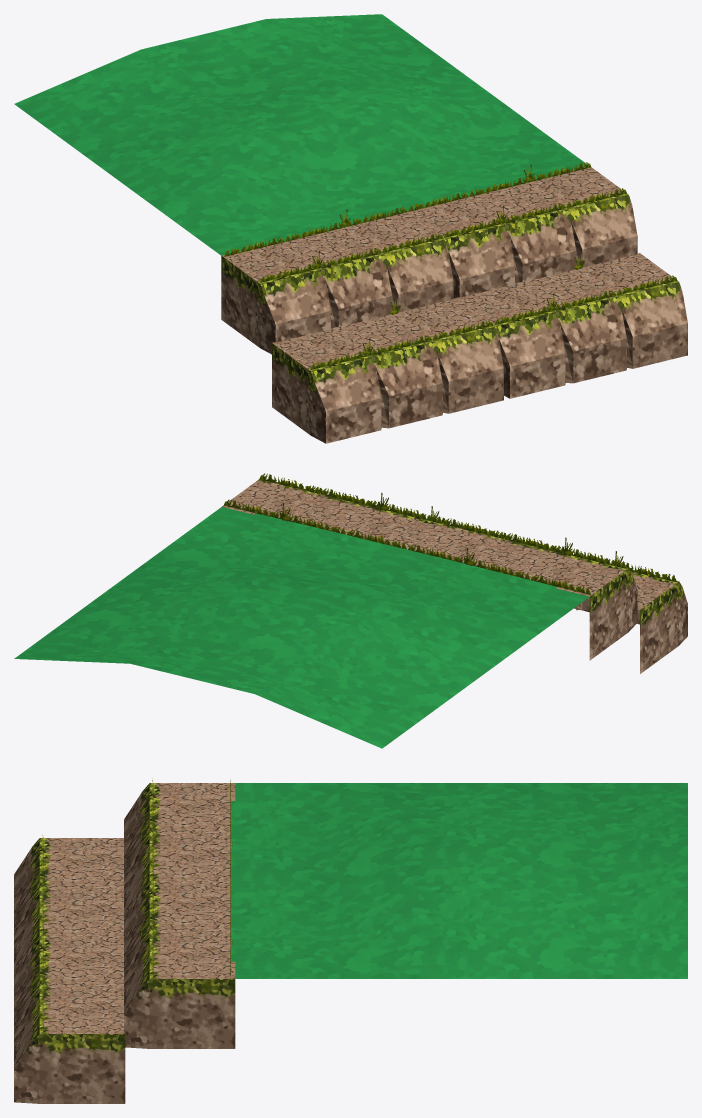
3 renders of one model, top to bottom at view 1: azimuth 30°, elevation 25°; view 2: azimuth 150°, elevation 25°; view 3: azimuth 270°, elevation 25°, orthographic. The views are drawn at different scales.
Parts seen in each view (by area): view 1: Object001, Terreno016, Terreno015, Terreno017, Terreno014; view 2: Object001, Terreno015, Terreno014, Terreno016; view 3: Object001, Terreno017, Terreno014, Terreno016, Terreno015.
Boxes of the visible parts, x1=… form: Object001: x1=14, y1=14, x2=586, y2=255; Terreno016: x1=272, y1=297, x2=503, y2=443; Terreno015: x1=221, y1=207, x2=453, y2=354; Terreno017: x1=456, y1=252, x2=687, y2=398; Terreno014: x1=407, y1=162, x2=637, y2=298; Object001: x1=14, y1=507, x2=589, y2=748; Terreno015: x1=408, y1=518, x2=637, y2=660; Terreno014: x1=221, y1=473, x2=443, y2=549; Terreno016: x1=497, y1=532, x2=687, y2=673; Object001: x1=231, y1=783, x2=687, y2=978; Terreno017: x1=14, y1=933, x2=125, y2=1103; Terreno014: x1=124, y1=876, x2=235, y2=1048; Terreno016: x1=14, y1=835, x2=123, y2=971; Terreno015: x1=124, y1=778, x2=235, y2=916.
Bounding box in the file's own units: 472 × 687 × 169.
